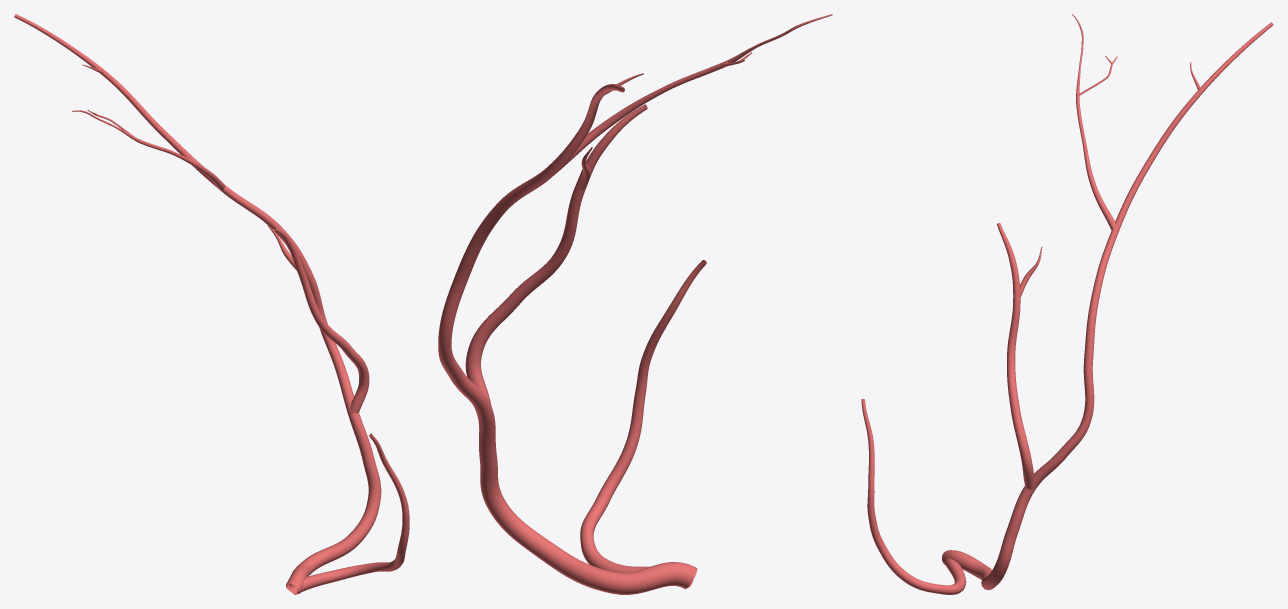
Rendered from Artery_of_precentral_sulcus.l_BezierCurve.082.glb.
The picture shows the model from 3 angles, left to right: view 1: azimuth 30°, elevation 25°; view 2: azimuth 150°, elevation 25°; view 3: azimuth 270°, elevation 25°; orthographic projection. The views are drawn at different scales.
Parts seen in each view (by area): view 1: Artery_of_precentral_sulcus.l_BezierCurve.082; view 2: Artery_of_precentral_sulcus.l_BezierCurve.082; view 3: Artery_of_precentral_sulcus.l_BezierCurve.082.
Boxes of the visible parts, x1=… form: Artery_of_precentral_sulcus.l_BezierCurve.082: x1=14, y1=14, x2=409, y2=594; Artery_of_precentral_sulcus.l_BezierCurve.082: x1=438, y1=14, x2=832, y2=594; Artery_of_precentral_sulcus.l_BezierCurve.082: x1=861, y1=14, x2=1273, y2=594.
Bounding box in the file's own units: 0.0338 × 0.058 × 0.0444.
